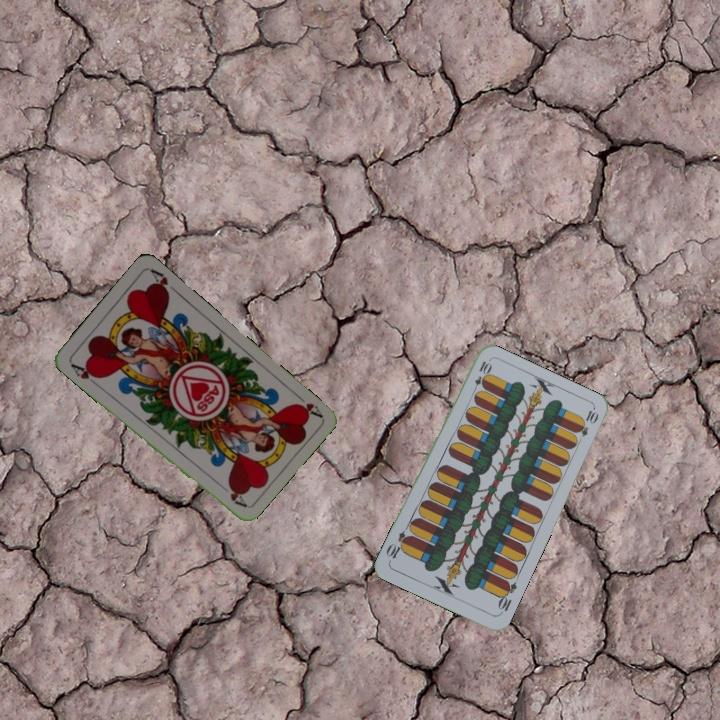E10: (494, 577, 520, 617), (469, 357, 492, 397)
HA: (66, 359, 103, 389), (290, 388, 324, 420)
